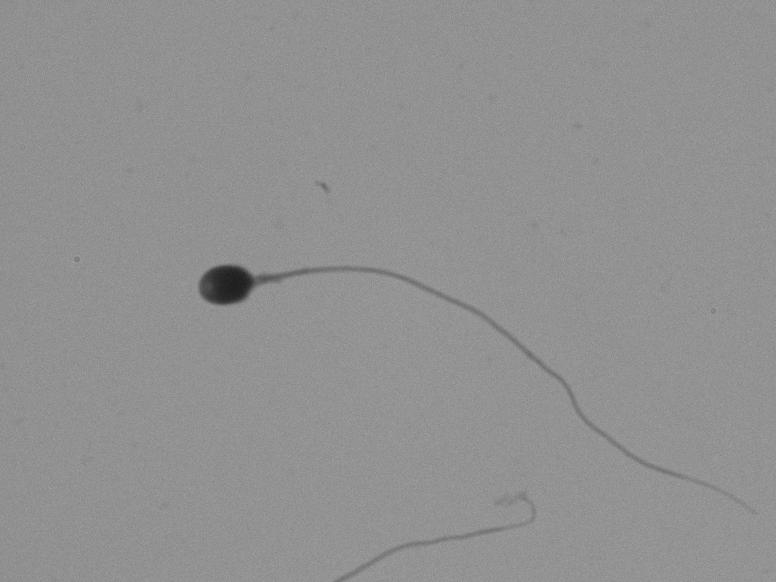Normal: (174, 196, 724, 512)
